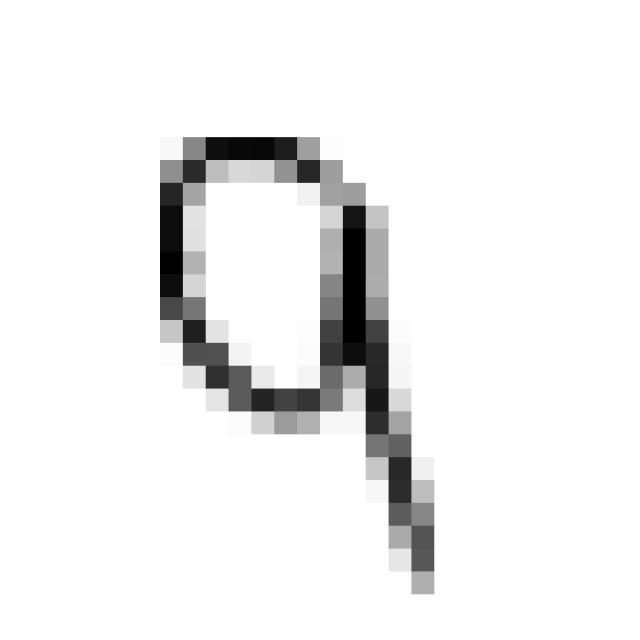9 -nine-: (137, 112, 450, 612)
